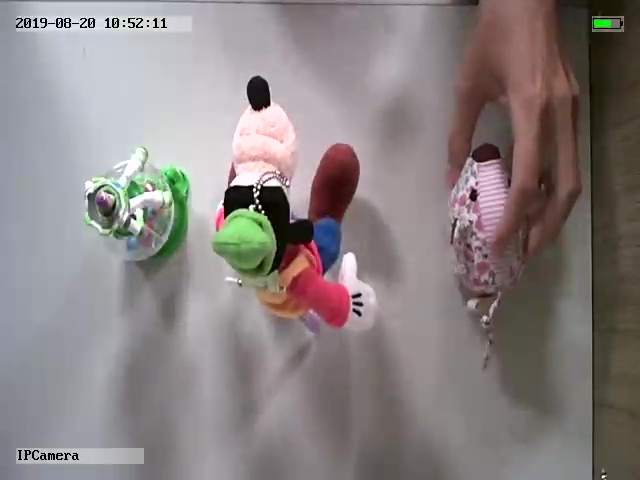buzz: (80, 145, 190, 264)
goofy: (211, 76, 378, 333)
pig: (448, 141, 526, 374), (446, 139, 524, 372)
